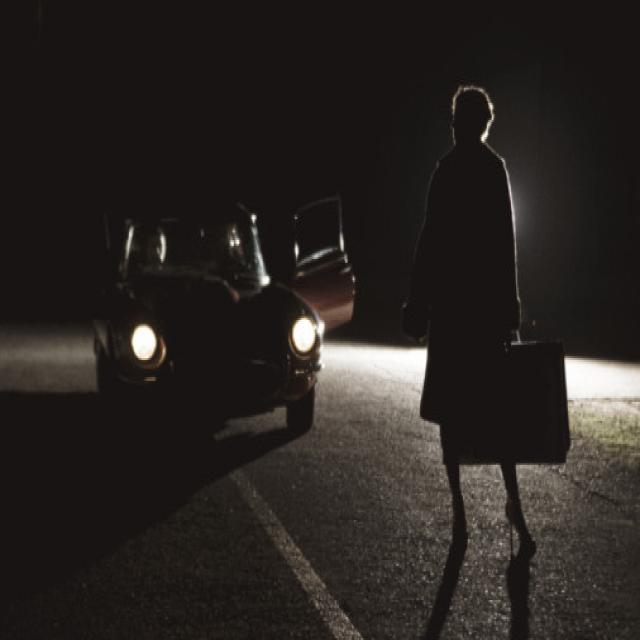Car: (74, 150, 346, 492)
